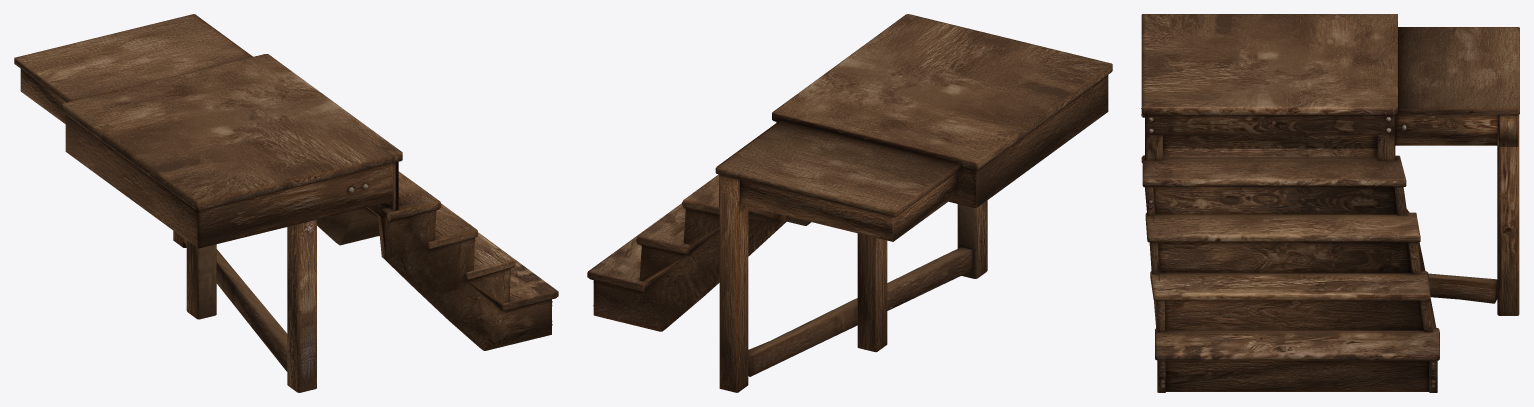
3 views of the same model, side by side, from view 1: azimuth 30°, elevation 25°; view 2: azimuth 150°, elevation 25°; view 3: azimuth 270°, elevation 25° (orthographic). The views are drawn at different scales.
Visible parts, largest first — view 1: tripo_node_daa02f75-28dd-40d7-9b88-48971b00ade7; view 2: tripo_node_daa02f75-28dd-40d7-9b88-48971b00ade7; view 3: tripo_node_daa02f75-28dd-40d7-9b88-48971b00ade7.
Boxes of the visible parts, x1=… form: tripo_node_daa02f75-28dd-40d7-9b88-48971b00ade7: x1=14, y1=14, x2=558, y2=392; tripo_node_daa02f75-28dd-40d7-9b88-48971b00ade7: x1=587, y1=14, x2=1112, y2=392; tripo_node_daa02f75-28dd-40d7-9b88-48971b00ade7: x1=1141, y1=14, x2=1519, y2=392.
Size of the model in its own units: 0.998 by 0.5879 by 0.9453.
1 material, 1 textured.
